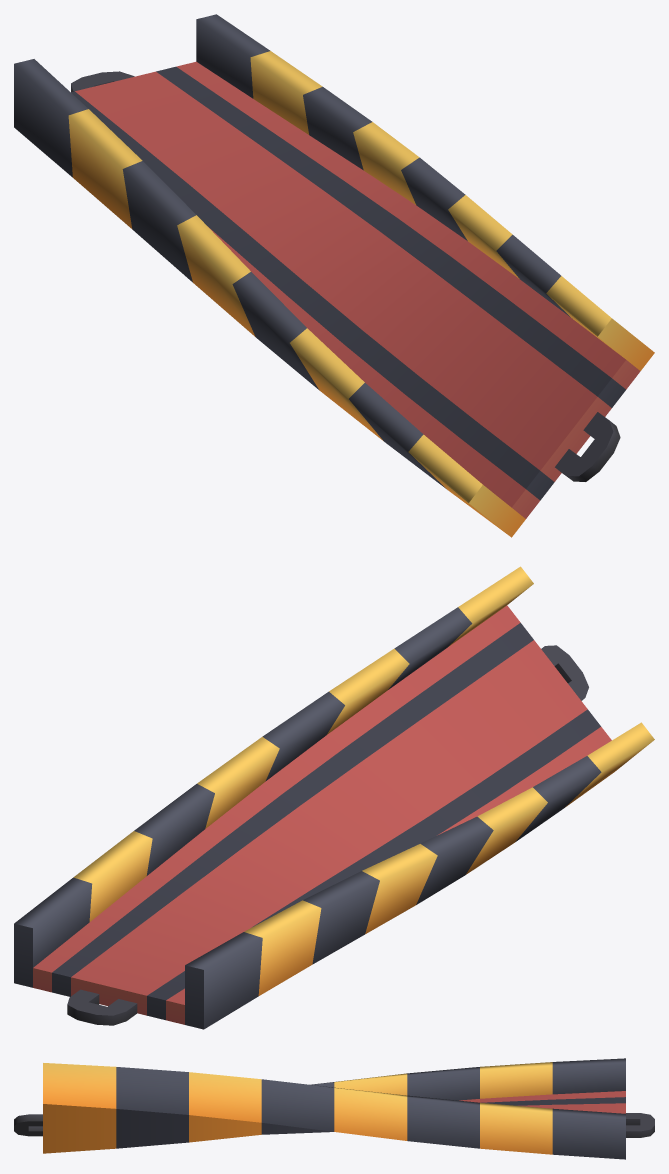
Rendered from track-road-narrow-straight-skew-right.fbx.
3 views of the same model, one above another, from view 1: azimuth 30°, elevation 25°; view 2: azimuth 150°, elevation 25°; view 3: azimuth 270°, elevation 25° (orthographic). The views are drawn at different scales.
Parts seen in each view (by area): view 1: track-road-narrow-straight-skew-right; view 2: track-road-narrow-straight-skew-right; view 3: track-road-narrow-straight-skew-right.
Boxes of the visible parts, x1,y1,x2,y2 form: track-road-narrow-straight-skew-right: [14, 14, 654, 537]; track-road-narrow-straight-skew-right: [14, 566, 654, 1029]; track-road-narrow-straight-skew-right: [14, 1058, 654, 1159].
Size of the model in its own units: 108 by 91.92 by 440.
